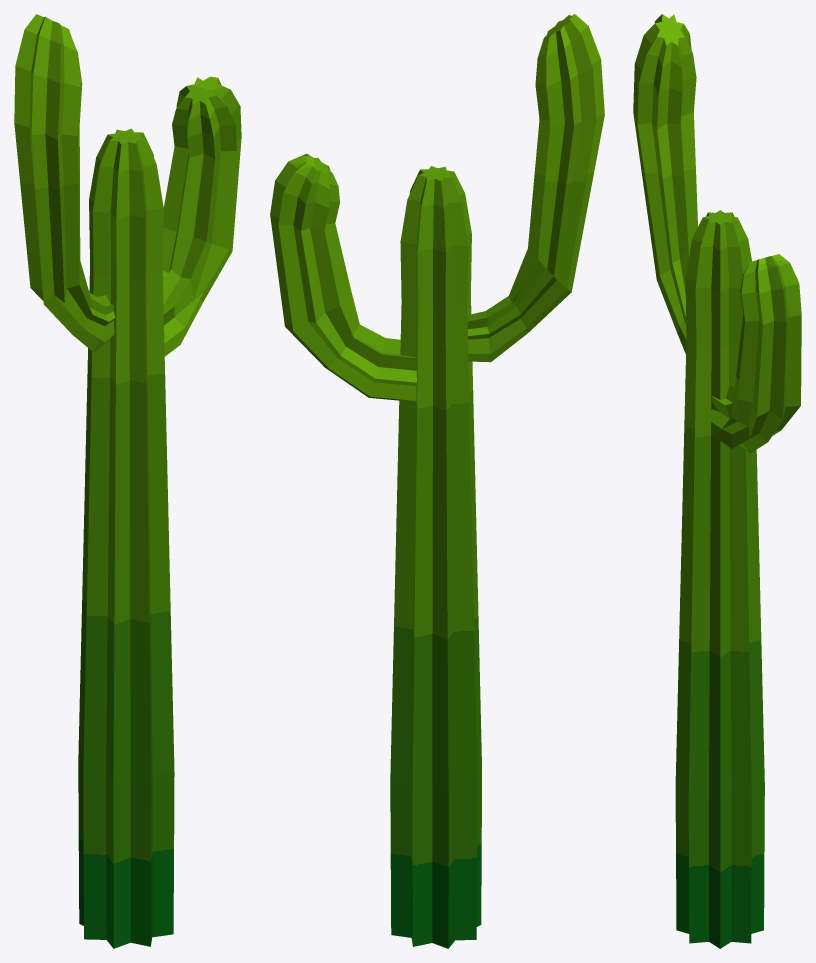
File: hookable_cactus_02 1.fbx
The picture shows the model from 3 angles, left to right: view 1: azimuth 30°, elevation 25°; view 2: azimuth 150°, elevation 25°; view 3: azimuth 270°, elevation 25°; orthographic projection. The views are drawn at different scales.
Parts seen in each view (by area): view 1: Cylinder.004; view 2: Cylinder.004; view 3: Cylinder.004.
Part boxes in pixels (x1=…): Cylinder.004: x1=14, y1=14, x2=241, y2=948; Cylinder.004: x1=270, y1=14, x2=604, y2=948; Cylinder.004: x1=633, y1=14, x2=801, y2=948.
Bounding box in the file's own units: 246 × 811 × 143.
